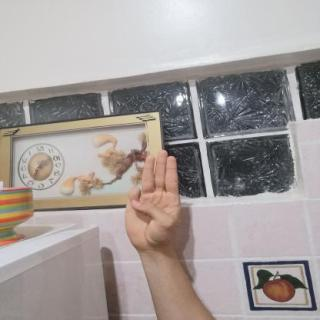THA: (115, 144, 192, 258)
